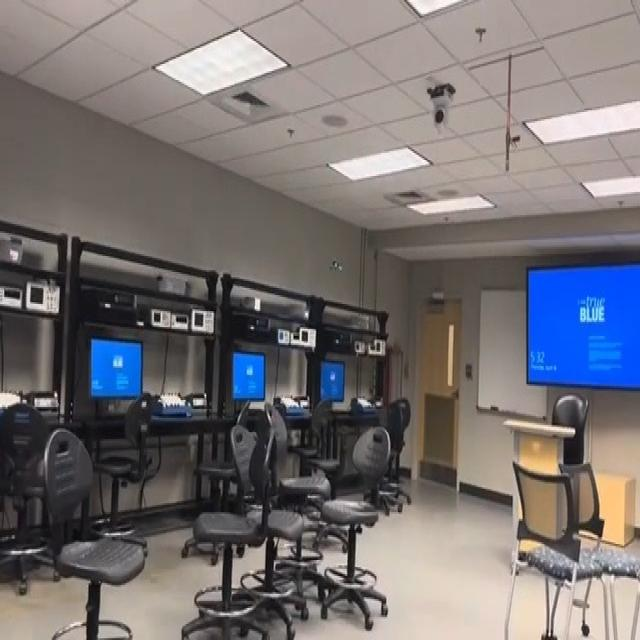drone: (323, 242, 350, 286)
